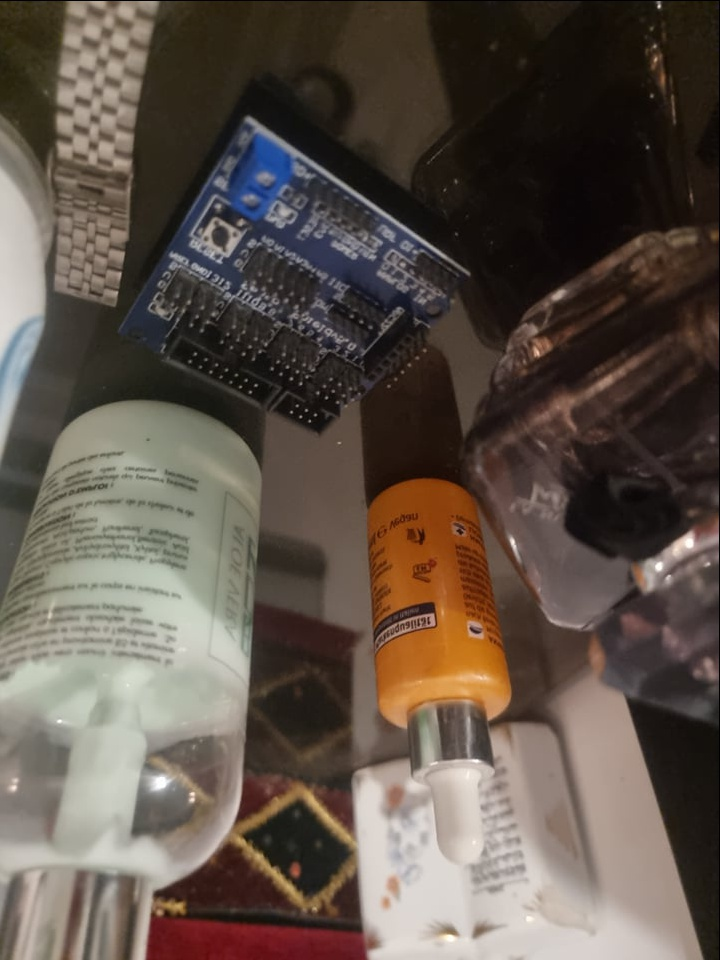5V EXPANSION: (116, 114, 476, 435)
